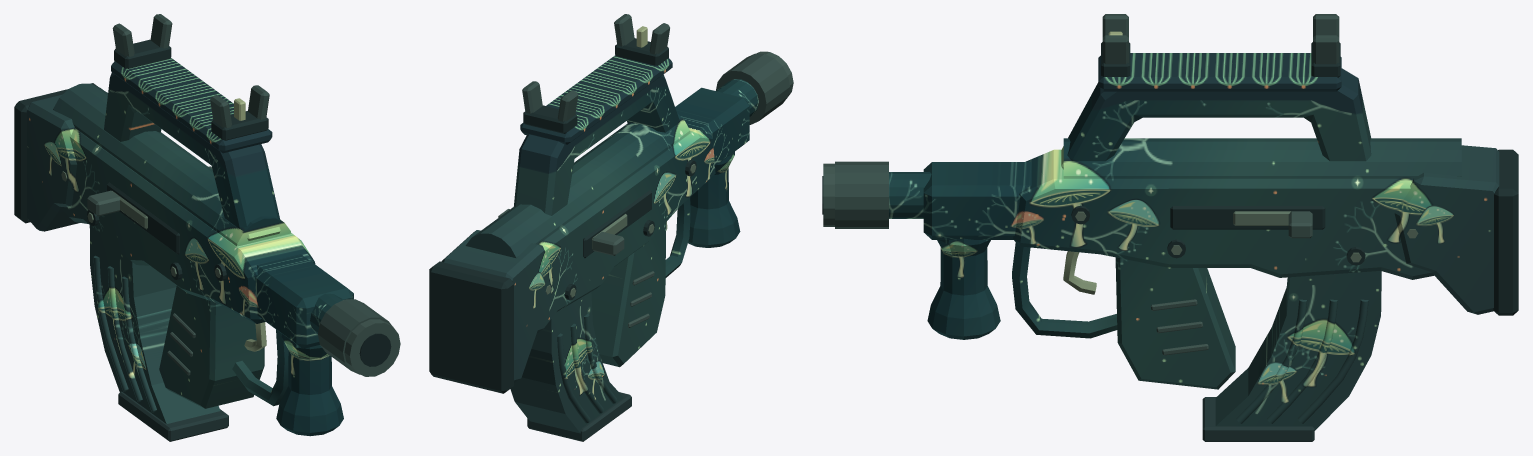
Rendered from Groza_Mycelium.glb.
The picture shows the model from 3 angles, left to right: view 1: azimuth 30°, elevation 25°; view 2: azimuth 150°, elevation 25°; view 3: azimuth 270°, elevation 25°; orthographic projection. The views are drawn at different scales.
Parts seen in each view (by area): view 1: Main, Magazine, Stock; view 2: Main, Stock, Magazine; view 3: Main, Magazine, Stock.
Part boxes in pixels (x1,y1,x2,y2): Main: (53,14,400,436); Magazine: (89,225,228,441); Stock: (14,83,107,231); Main: (465,14,793,367); Stock: (429,230,553,393); Magazine: (510,292,631,441); Main: (822,14,1461,389); Magazine: (1202,271,1381,441); Stock: (1394,145,1518,315).
Size of the model in its own units: 0.636 by 1.8 by 2.83.
1 material, 1 textured.
